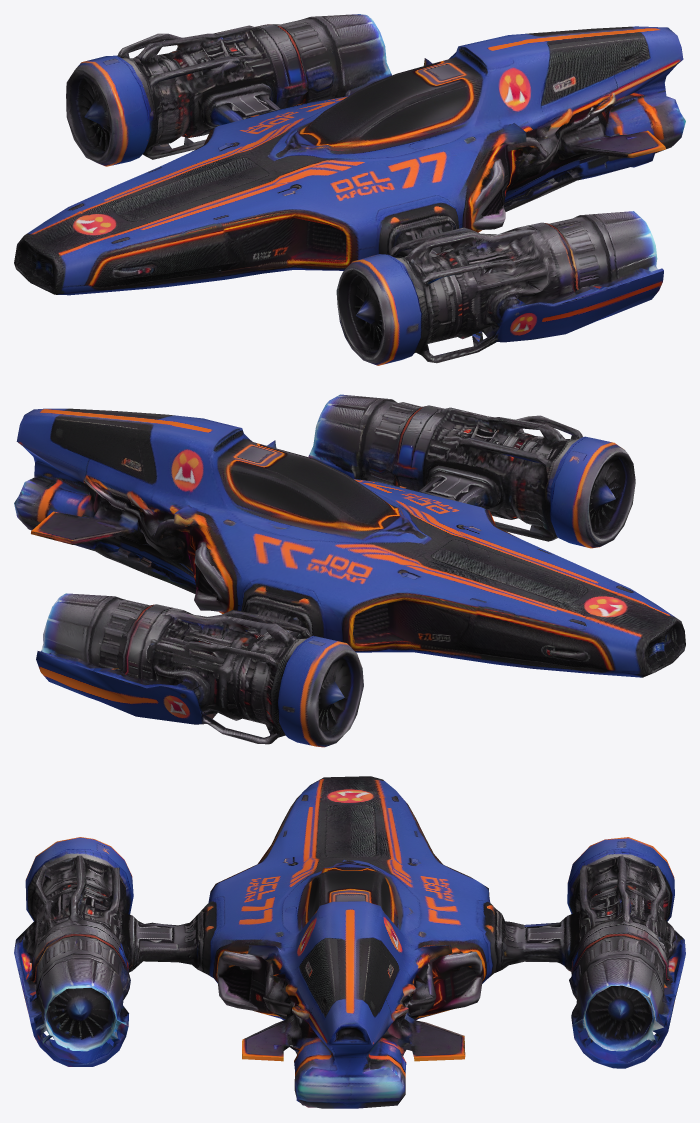
Rendered from kart4.glb.
The picture shows the model from 3 angles, top to bottom: view 1: azimuth 30°, elevation 25°; view 2: azimuth 150°, elevation 25°; view 3: azimuth 270°, elevation 25°; orthographic projection.
Visible parts, largest first — view 1: Mesh_LOD2; view 2: Mesh_LOD2; view 3: Mesh_LOD2.
Boxes of the visible parts, x1,y1,x2,y2 form: Mesh_LOD2: (14,14,685,365); Mesh_LOD2: (14,394,685,747); Mesh_LOD2: (14,776,685,1108).
Size of the model in its own units: 1.9 by 0.4366 by 1.72.
Materials: 1 (1 with a texture image).
